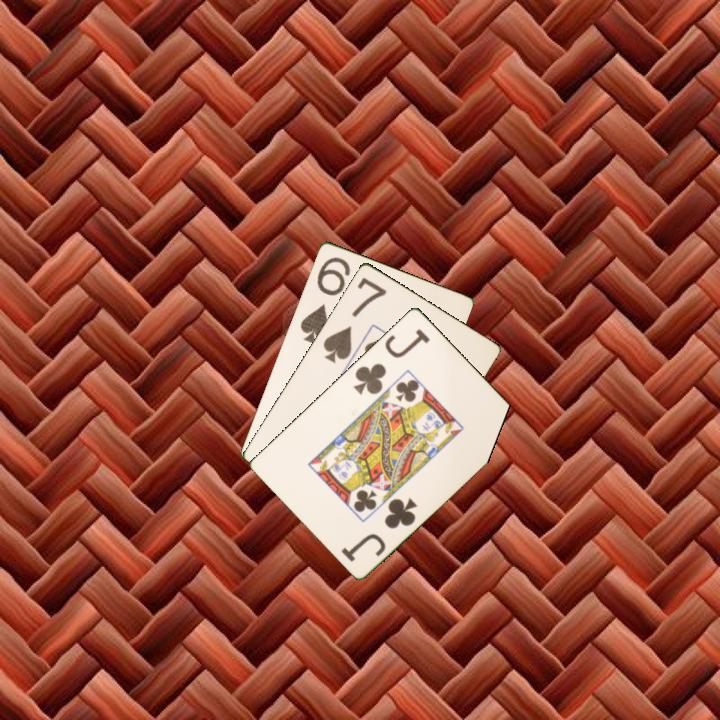6s: (296, 253, 353, 346)
7s: (319, 273, 390, 365)
Jc: (350, 325, 433, 397), (337, 494, 420, 565)
